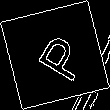P_NW: (24, 26, 86, 84)
